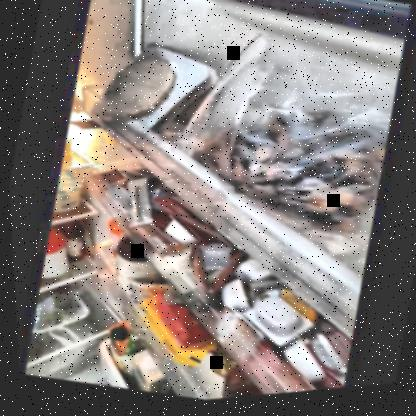dates: (177, 85, 386, 242)
milk: (126, 348, 173, 399)
salami: (95, 49, 182, 135)
